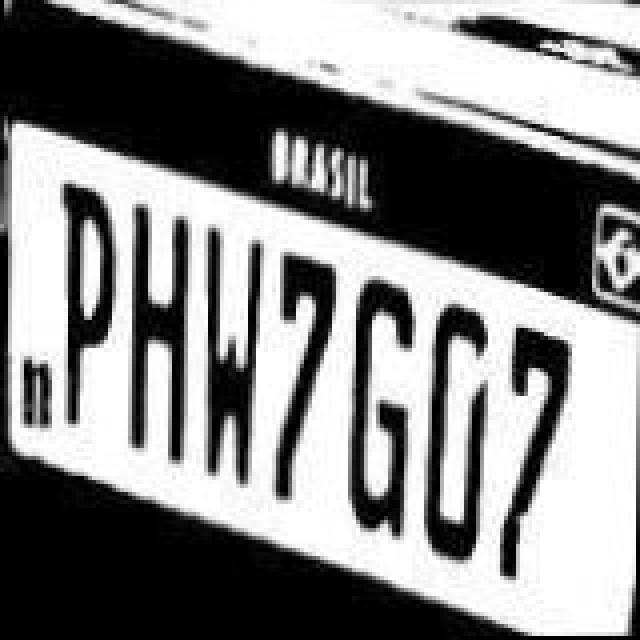7: (494, 304, 574, 592), (268, 230, 336, 534)
D: (422, 282, 486, 574)
G: (344, 254, 420, 554)
H: (128, 206, 200, 478)
P: (52, 182, 124, 434)
W: (200, 210, 264, 502)
